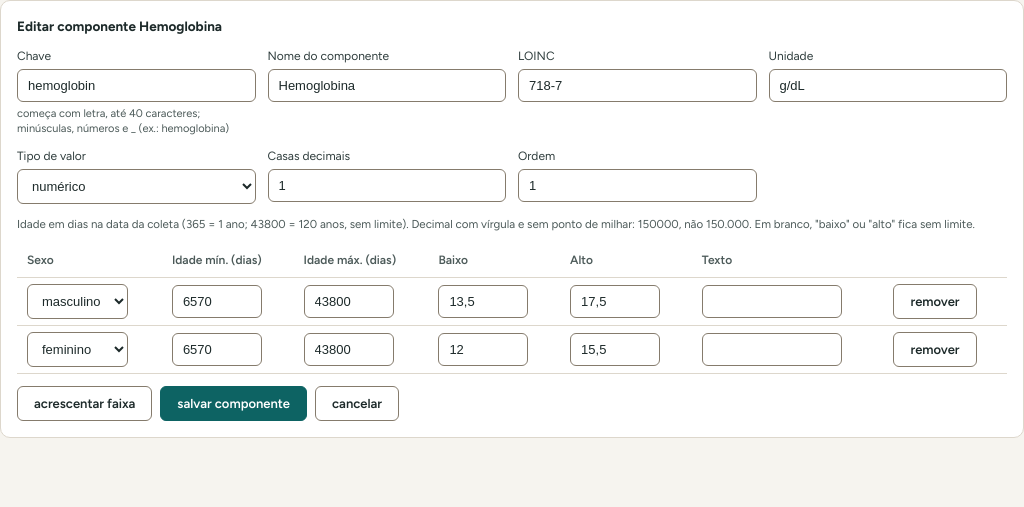
it: LabAnalyteForm › ordem acima do teto de Int é recusada com frase e nada é enviado
Replace the text in the field labelled "Ordem" with "2147483648" at (637, 186), box [518,169,756,202]
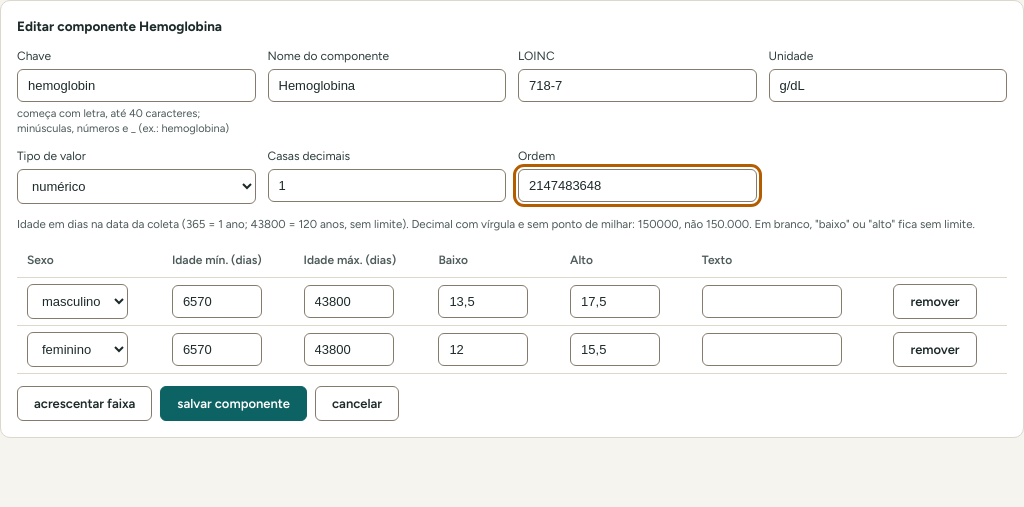
Click the button "salvar componente".
click(234, 404)  # box [160,386,307,421]
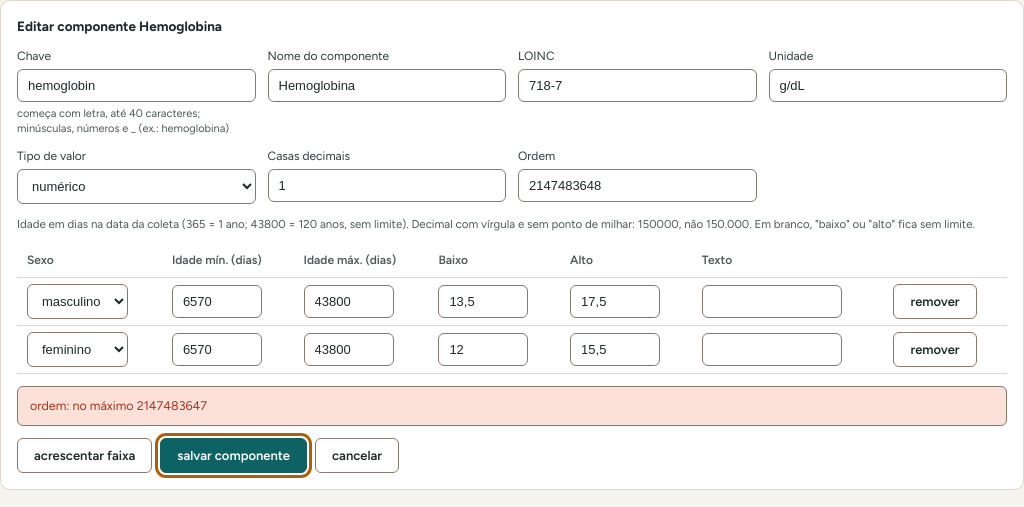
Expected: the message reads "ordem: no máximo 2147483647", [30,398,207,413]
